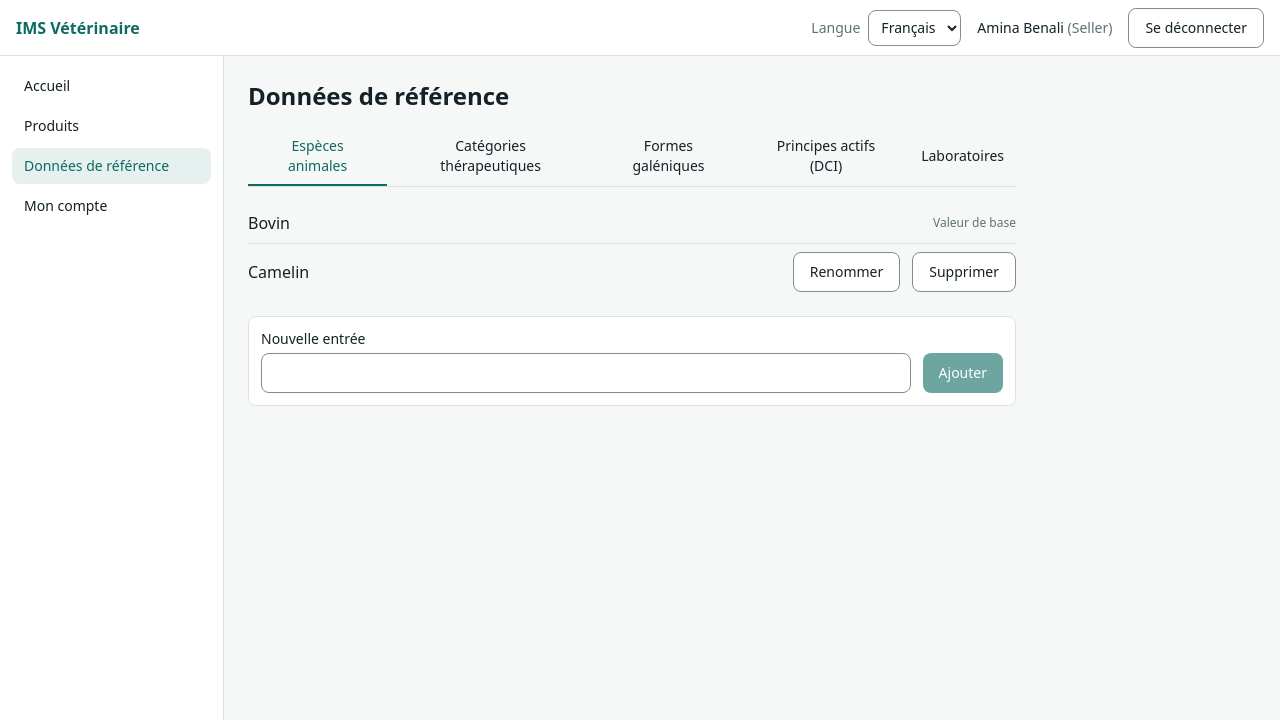
Scenario: ReferencesPage (ADR-054) › explains that a used entry cannot be deleted
Step 1. Click the button with aria-label "Supprimer Camelin" → (964, 272), box [912,252,1016,292]
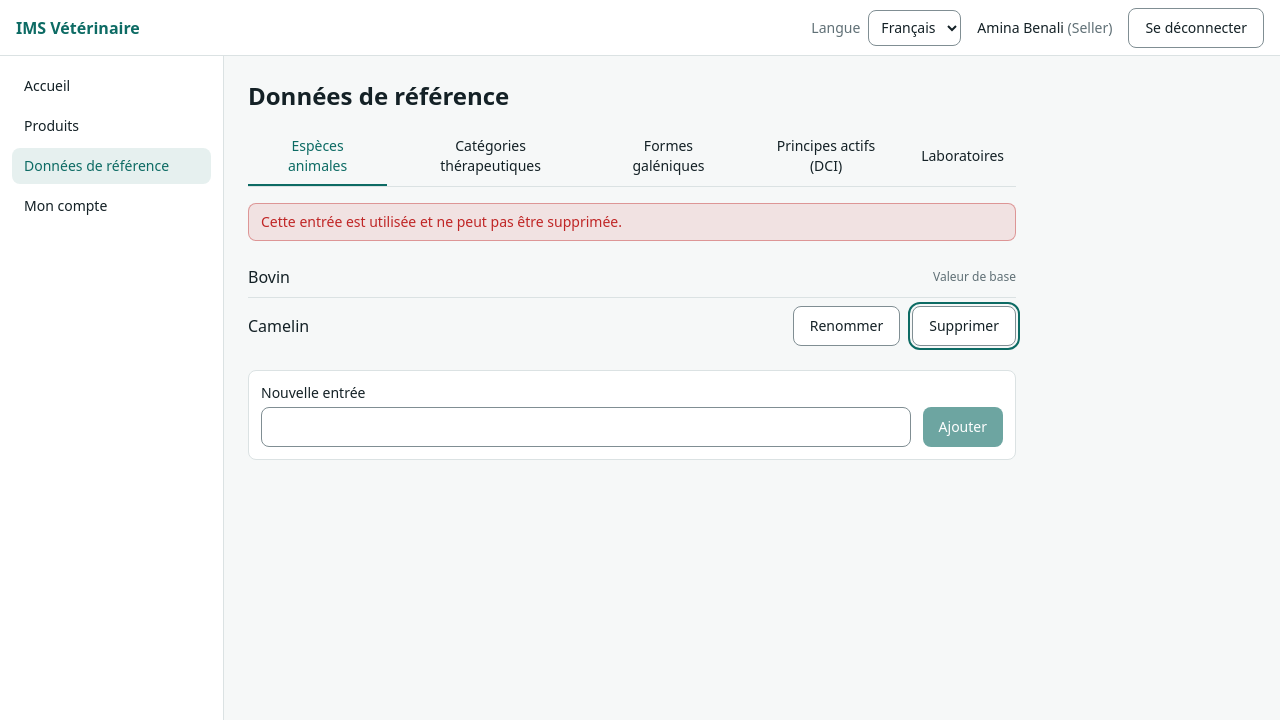
expect the message reads "Cette entrée est utilisée et ne peut pas être supprimée.": met, box [261,212,622,231]
